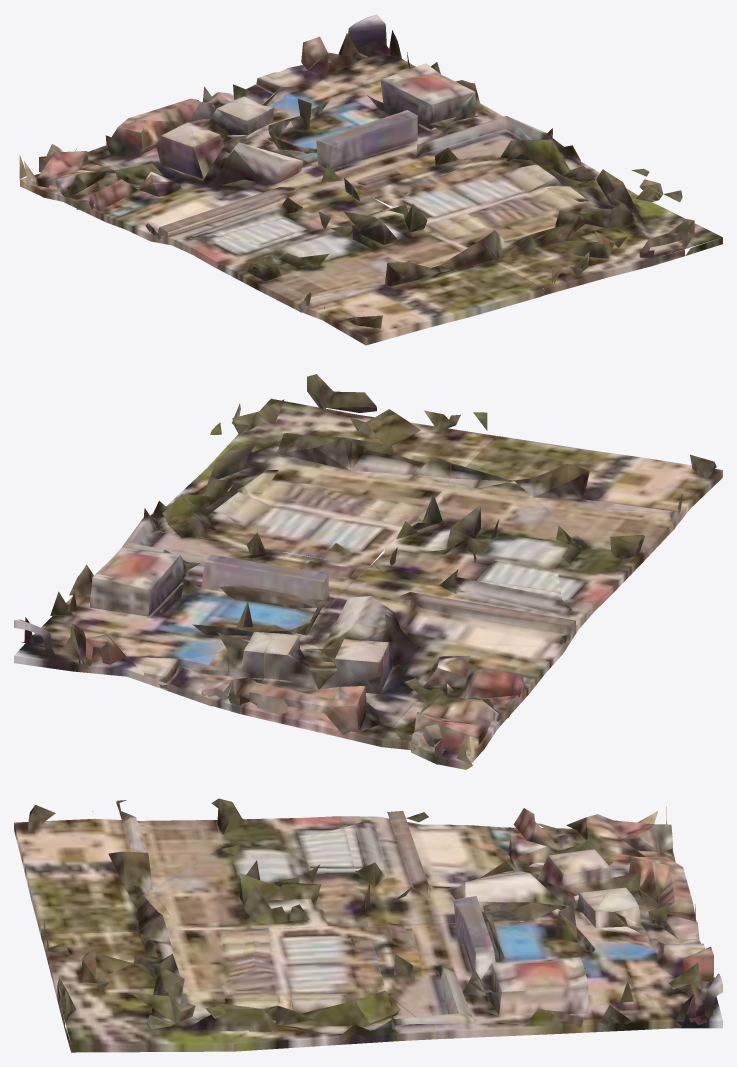
3 renders of one model, top to bottom at view 1: azimuth 30°, elevation 25°; view 2: azimuth 150°, elevation 25°; view 3: azimuth 270°, elevation 25°, orthographic. The views are drawn at different scales.
Parts seen in each view (by area): view 1: Mesh_0; view 2: Mesh_0; view 3: Mesh_0.
Part boxes in pixels (left/top/right/bottom): Mesh_0: left=19, top=14, right=722, bottom=345; Mesh_0: left=14, top=374, right=722, bottom=769; Mesh_0: left=14, top=798, right=722, bottom=1052.
Size of the model in its own units: 270 by 37.42 by 330.
Materials: 1 (1 with a texture image).
